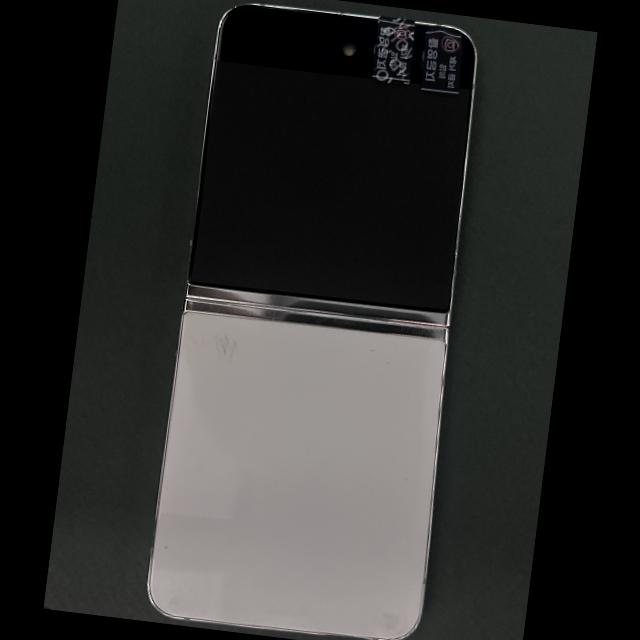phone: (148, 5, 474, 639)
sticker: (372, 18, 413, 84), (421, 30, 461, 93)
